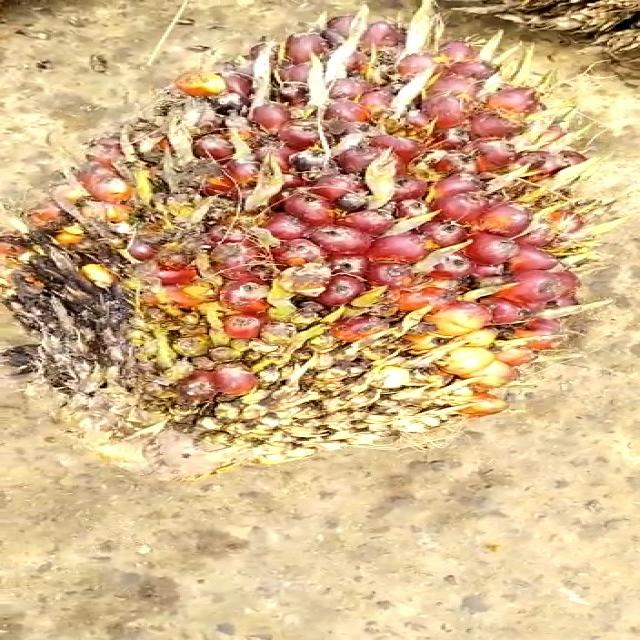palm oil: (6, 0, 629, 473)
